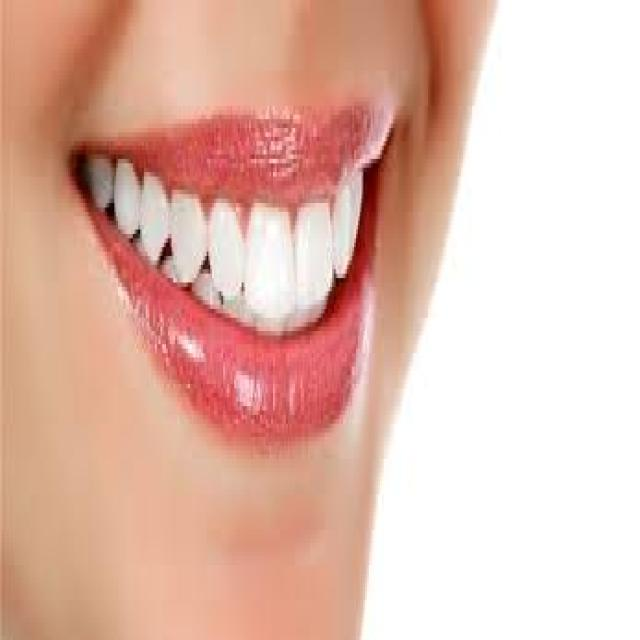tooth: (249, 198, 293, 318), (293, 203, 334, 305), (166, 190, 208, 287), (216, 199, 242, 291), (113, 159, 140, 247), (140, 163, 162, 265), (88, 142, 110, 208), (336, 185, 348, 287), (352, 176, 362, 238)
